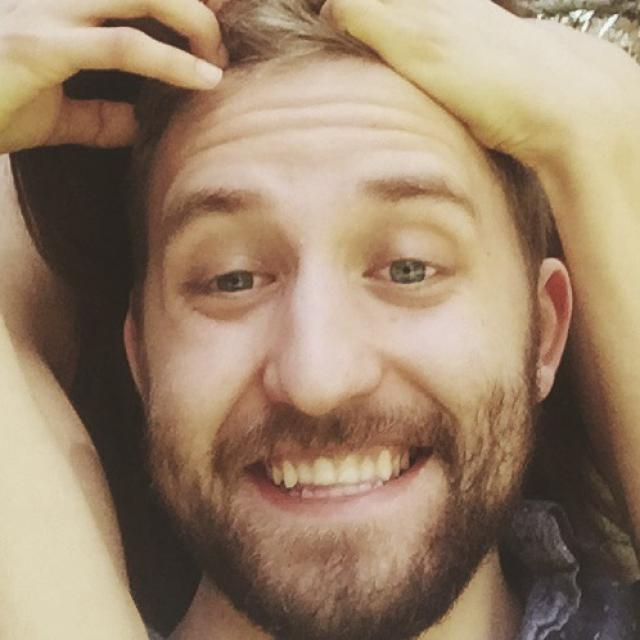Normal: (146, 58, 543, 638)
